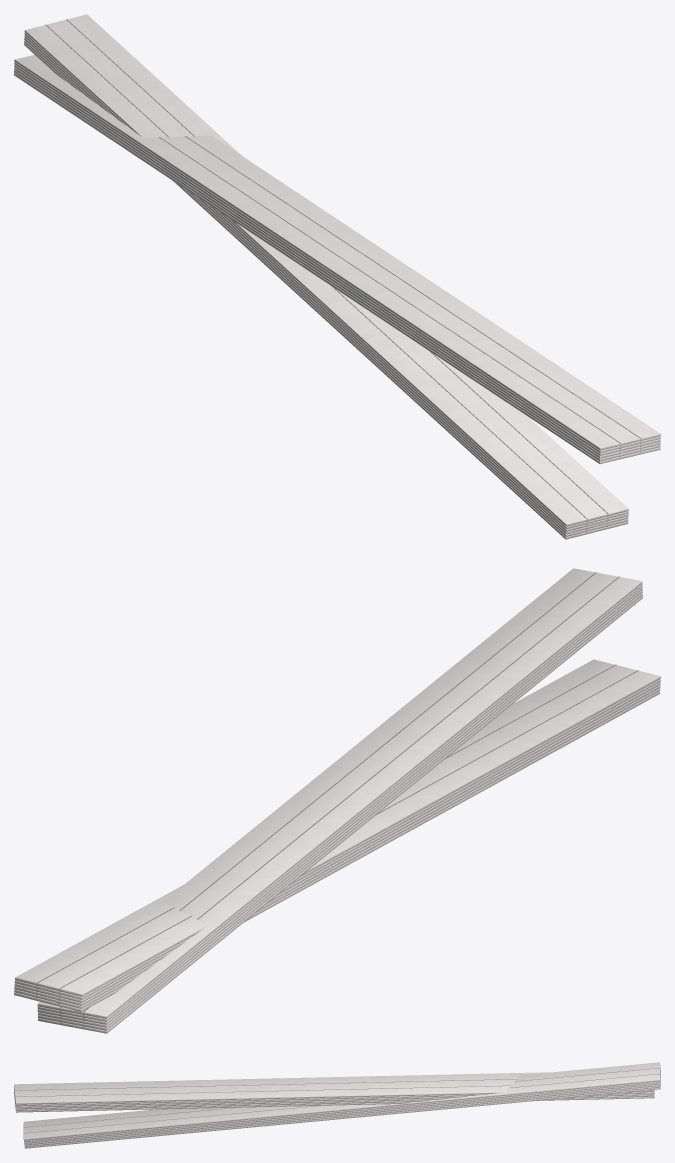
Rendered from REV-FOR-002_anim.glb.
3 renders of one model, top to bottom at view 1: azimuth 30°, elevation 25°; view 2: azimuth 150°, elevation 25°; view 3: azimuth 270°, elevation 25°, orthographic. The views are drawn at different scales.
Parts seen in each view (by area): view 1: REV-FOR-002_anim1, REV-FOR-002_anim0; view 2: REV-FOR-002_anim1, REV-FOR-002_anim0; view 3: REV-FOR-002_anim1, REV-FOR-002_anim0.
Part boxes in pixels (bbox=[...]): REV-FOR-002_anim1: bbox=[14, 55, 660, 463]; REV-FOR-002_anim0: bbox=[24, 14, 628, 539]; REV-FOR-002_anim1: bbox=[37, 568, 642, 1033]; REV-FOR-002_anim0: bbox=[14, 659, 660, 1011]; REV-FOR-002_anim1: bbox=[14, 1072, 654, 1112]; REV-FOR-002_anim0: bbox=[23, 1062, 660, 1148].
Size of the model in its own units: 0.3413 by 0.355 by 3.04.
2 materials, 2 textured.
